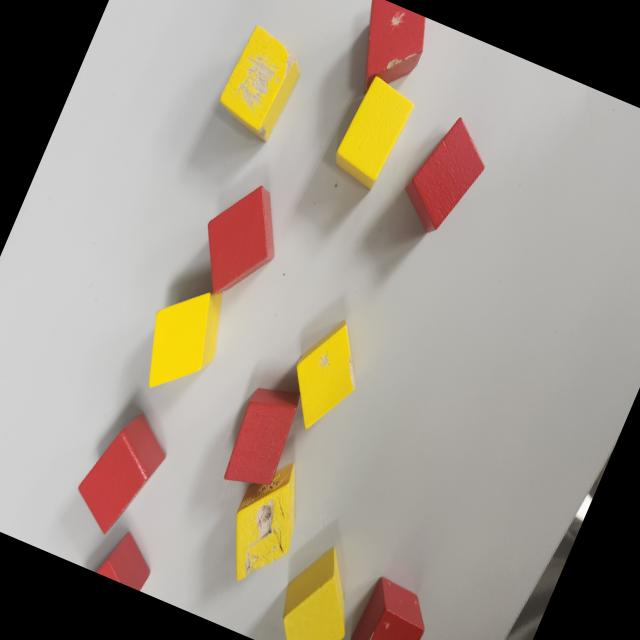broken: (212, 450, 321, 592), (273, 307, 379, 441), (210, 22, 310, 146), (336, 0, 436, 109), (335, 572, 438, 640)
red: (181, 168, 299, 314), (65, 401, 178, 546), (392, 109, 496, 244), (215, 377, 306, 497), (94, 524, 162, 592)
yellow: (128, 272, 238, 408), (261, 535, 375, 640), (327, 72, 420, 194)
